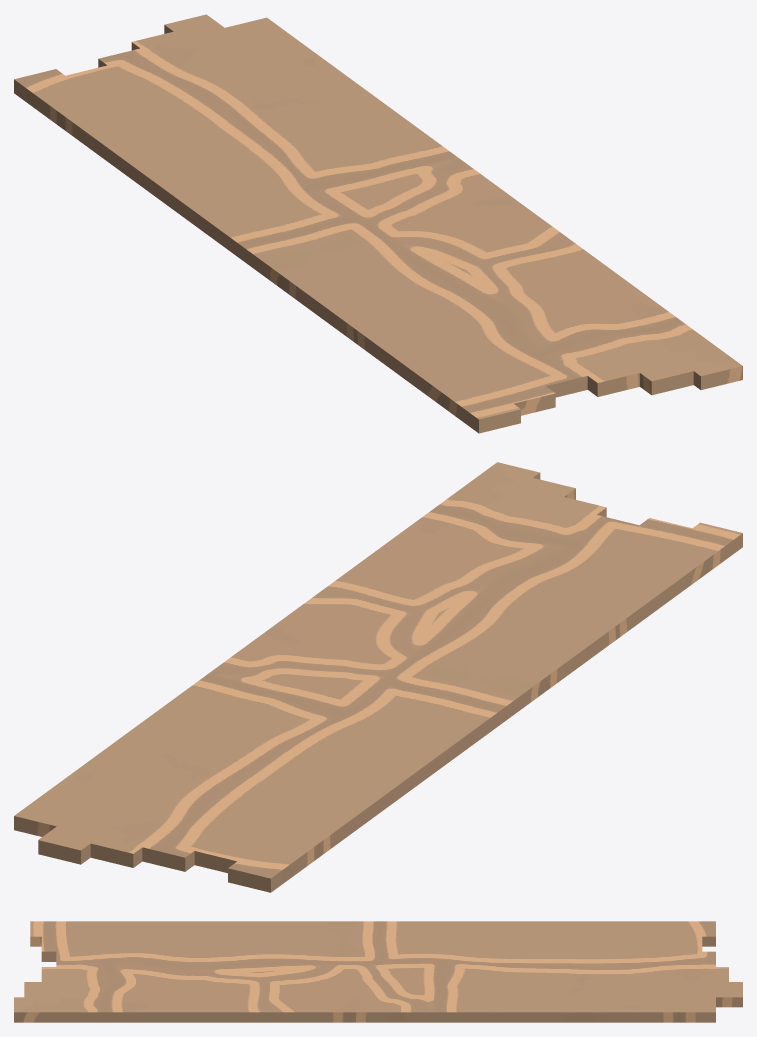
Rendered from WookPlanks.fbx.
3 renders of one model, top to bottom at view 1: azimuth 30°, elevation 25°; view 2: azimuth 150°, elevation 25°; view 3: azimuth 270°, elevation 25°, orthographic. The views are drawn at different scales.
Visible parts, largest first — view 1: OpenWall2x2.012; view 2: OpenWall2x2.012; view 3: OpenWall2x2.012.
Part boxes in pixels (x1=…): OpenWall2x2.012: x1=14, y1=14, x2=742, y2=433; OpenWall2x2.012: x1=14, y1=462, x2=742, y2=892; OpenWall2x2.012: x1=14, y1=921, x2=742, y2=1022.
Bounding box in the file's own units: 200 × 10.56 × 677.
